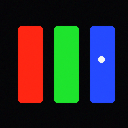0 point: (98, 56, 104, 62)
